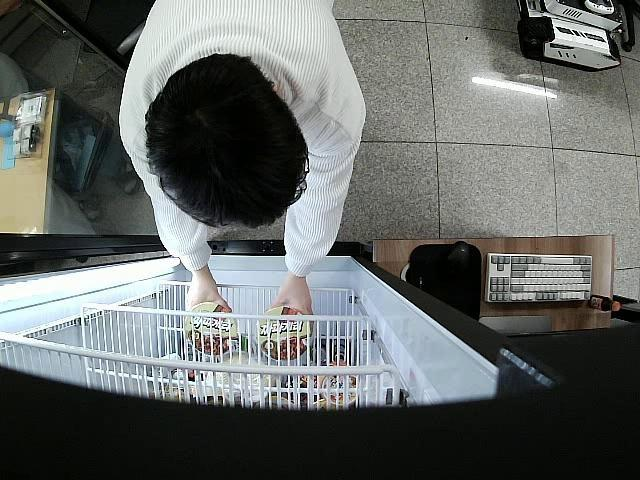03_chapagetti_L: (257, 306, 312, 360), (184, 302, 238, 354)
